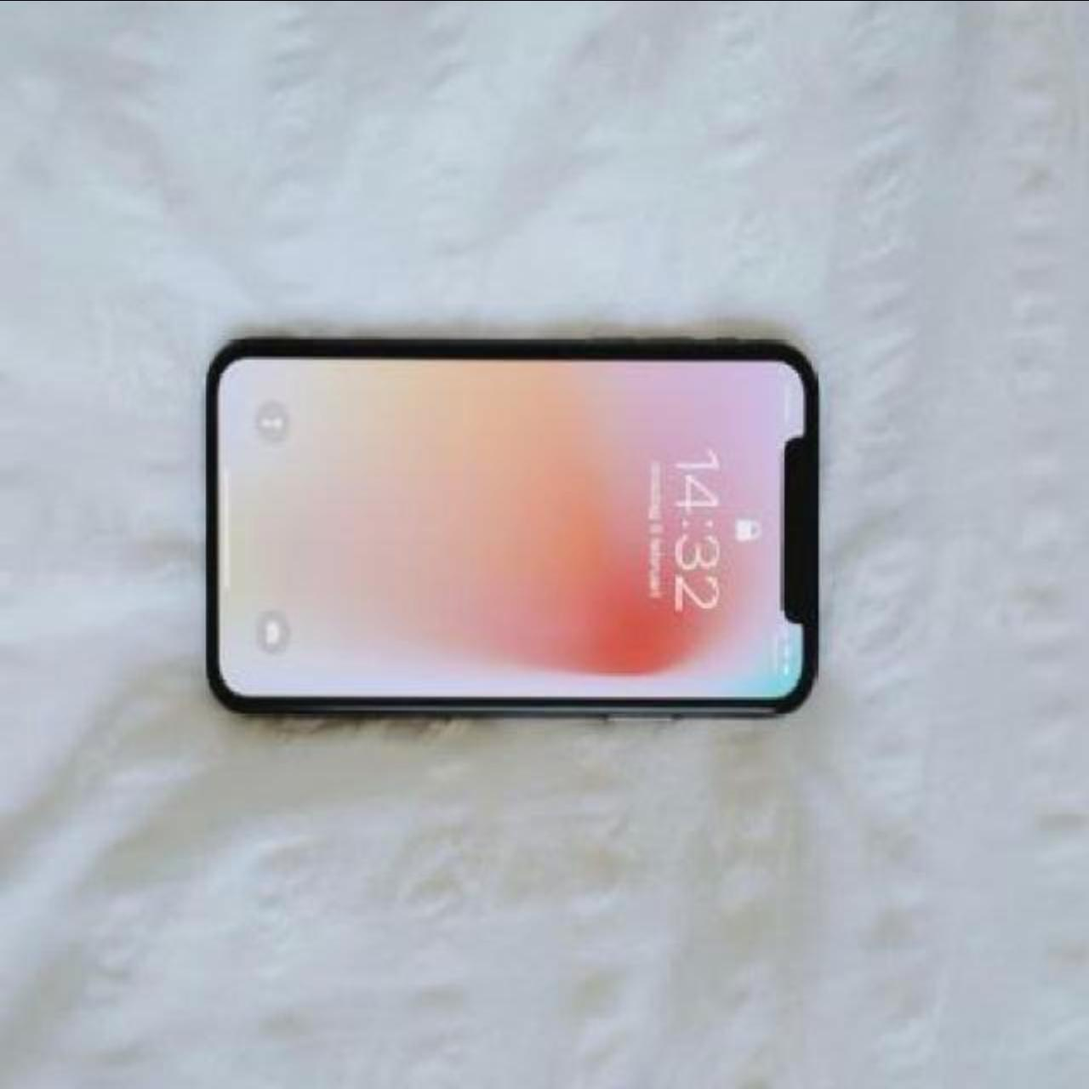phone: (206, 334, 818, 717)
